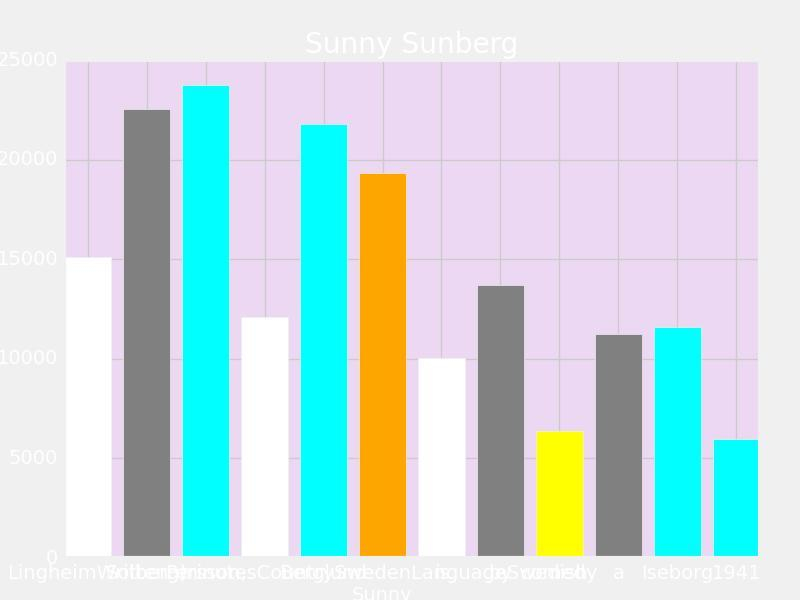axis: (0, 51, 58, 567)
rectangle: (182, 85, 229, 558), (123, 109, 170, 558), (300, 124, 347, 558), (359, 173, 406, 558), (64, 257, 111, 558), (477, 285, 524, 558), (241, 317, 288, 558), (654, 327, 701, 558), (595, 334, 642, 558), (418, 358, 465, 558), (536, 431, 583, 558), (713, 439, 760, 558)
